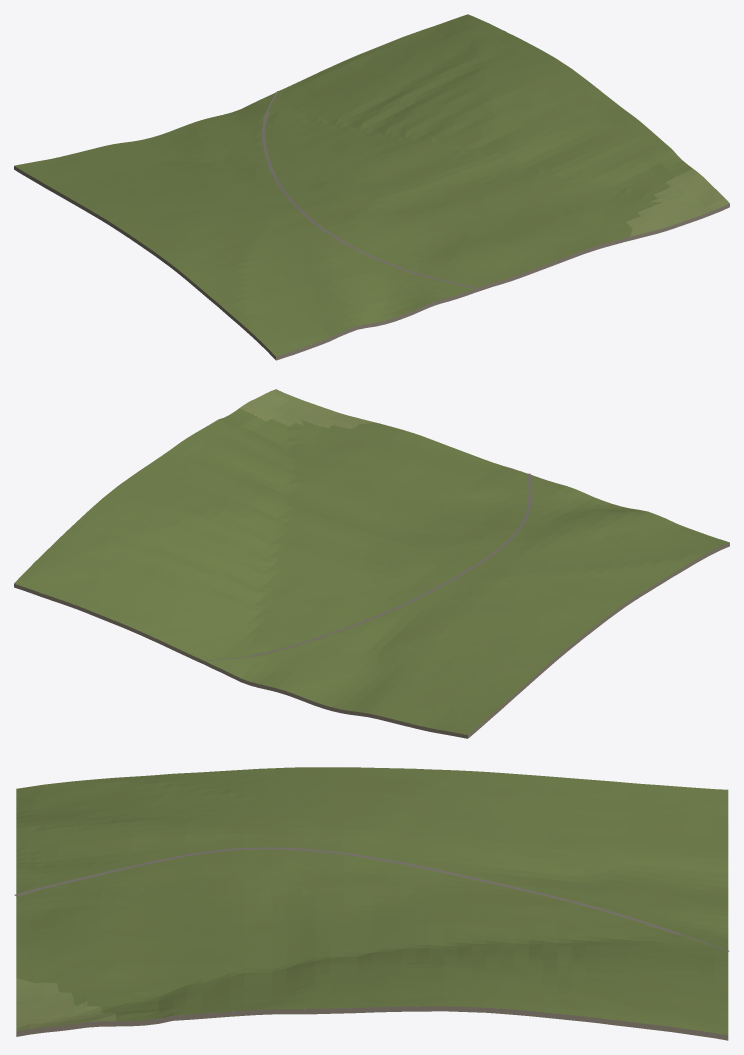
Rendered from parca_+5_+0-uzak.glb.
The picture shows the model from 3 angles, top to bottom: view 1: azimuth 30°, elevation 25°; view 2: azimuth 150°, elevation 25°; view 3: azimuth 270°, elevation 25°; orthographic projection. The views are drawn at different scales.
Visible parts, largest first — view 1: parca_+5_+0_arazi_uzak, parca_+5_+0_yollar_uzak; view 2: parca_+5_+0_arazi_uzak, parca_+5_+0_yollar_uzak; view 3: parca_+5_+0_arazi_uzak, parca_+5_+0_yollar_uzak.
Boxes of the visible parts, bbox=[...] form: parca_+5_+0_arazi_uzak: bbox=[14, 14, 729, 360]; parca_+5_+0_yollar_uzak: bbox=[262, 91, 477, 288]; parca_+5_+0_arazi_uzak: bbox=[14, 389, 729, 738]; parca_+5_+0_yollar_uzak: bbox=[203, 473, 531, 660]; parca_+5_+0_arazi_uzak: bbox=[16, 767, 728, 1040]; parca_+5_+0_yollar_uzak: bbox=[14, 847, 729, 951].
Size of the model in its own units: 1000 by 151 by 1005.
